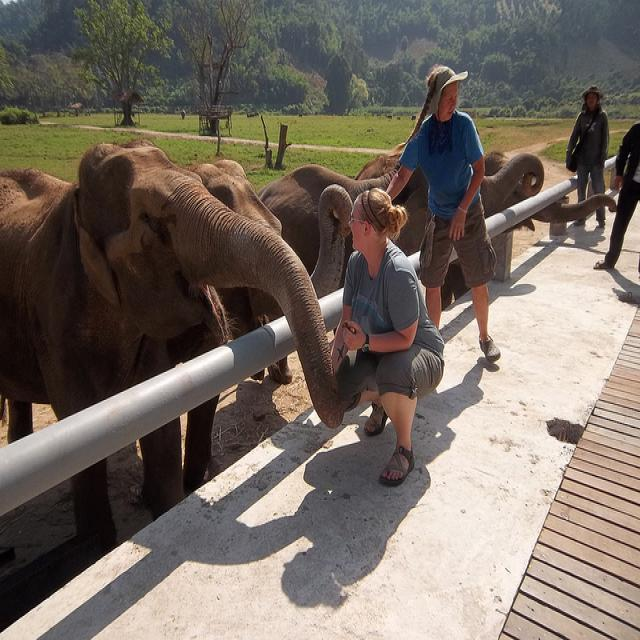Elephant: (0, 140, 347, 548)
person: (385, 64, 501, 363), (330, 187, 445, 485), (593, 120, 639, 271), (565, 84, 609, 228)
